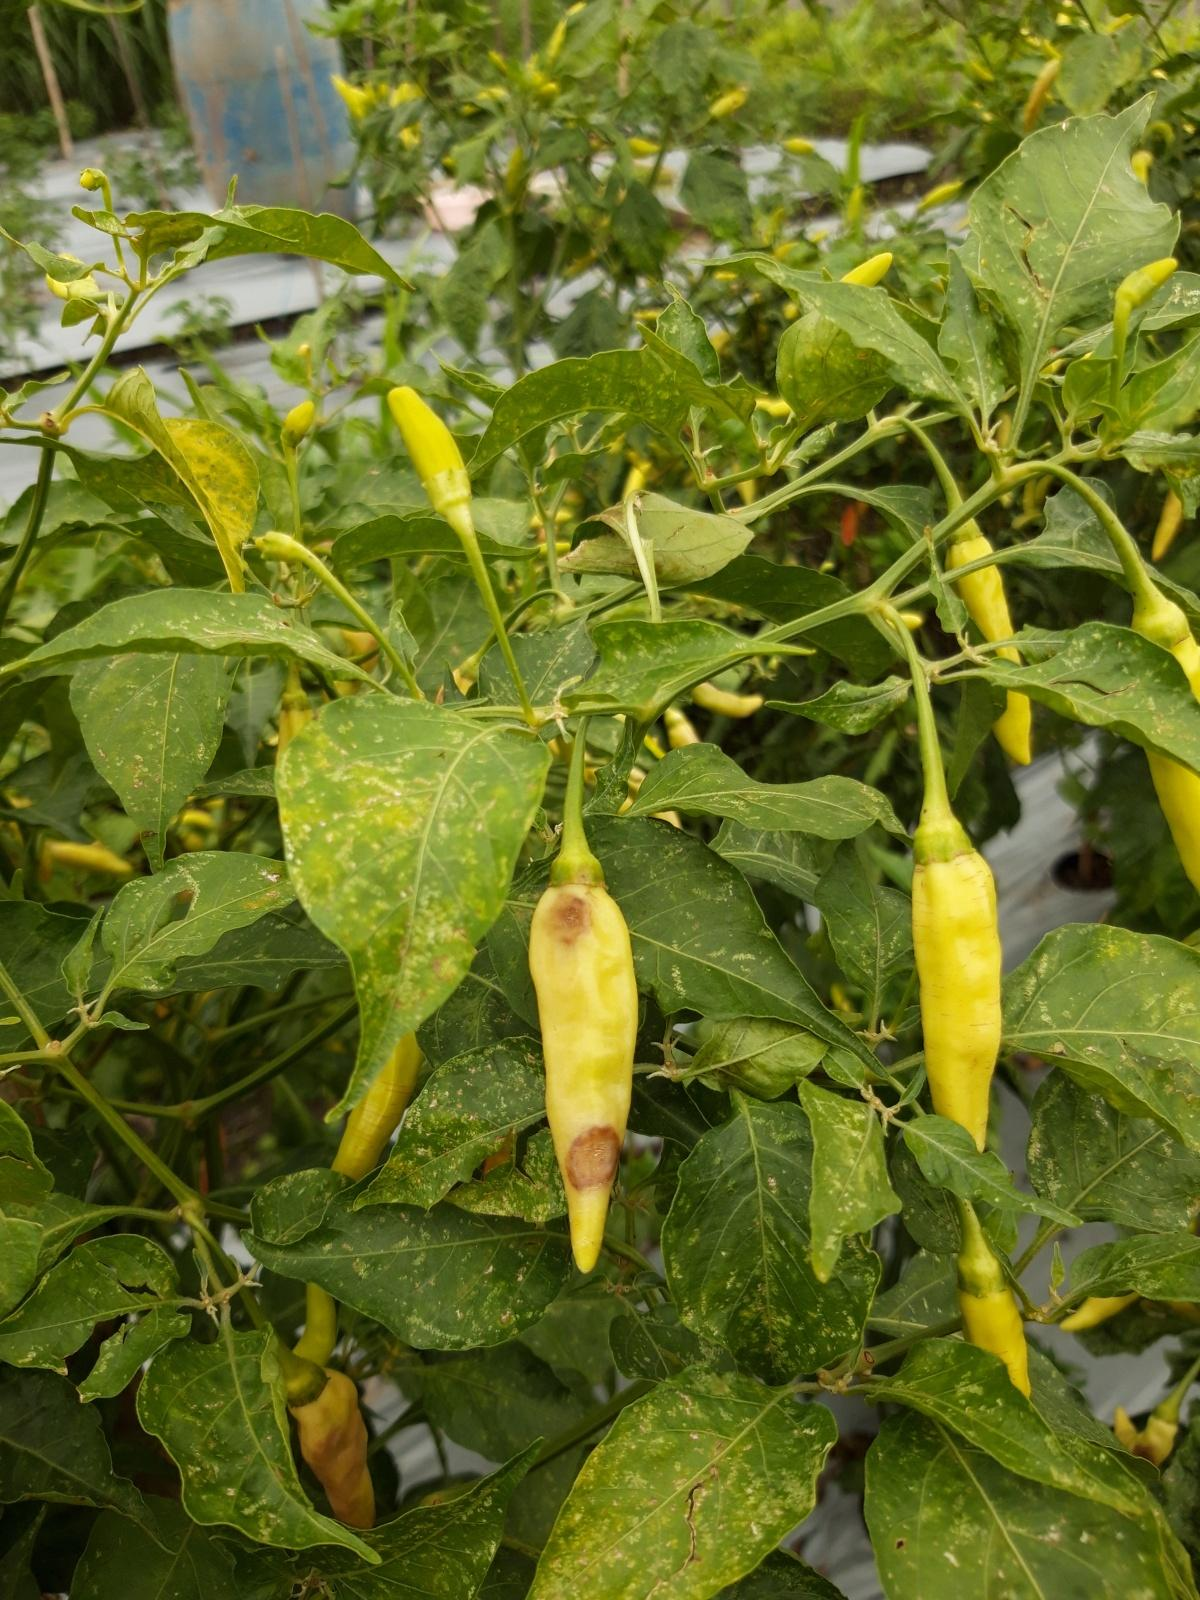cabai_normal: (910, 821, 1001, 1154), (944, 523, 1032, 766), (384, 383, 471, 524), (958, 1254, 1030, 1402), (1111, 260, 1185, 324)
lalat_buah: (529, 854, 638, 1275), (284, 1361, 377, 1529)
